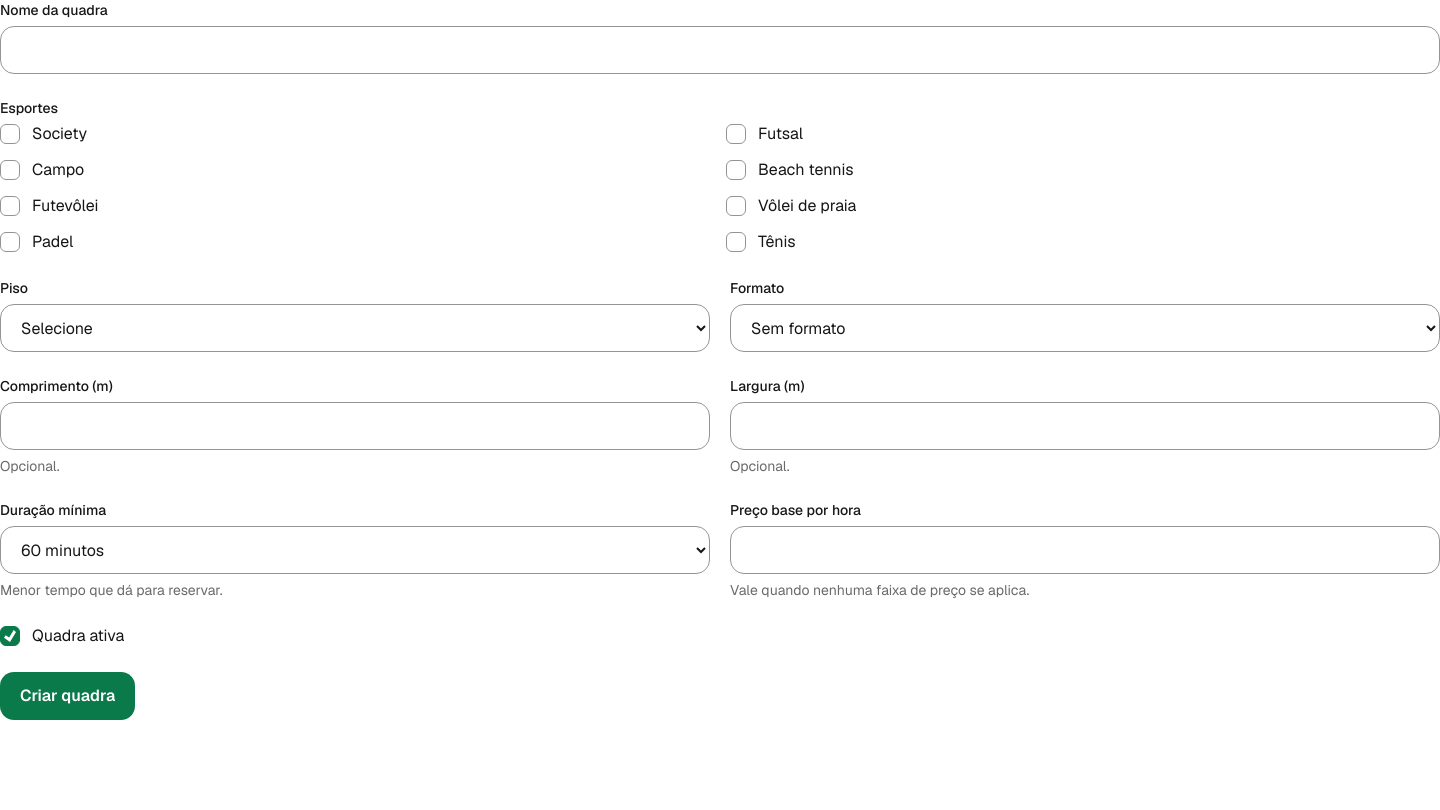
FieldForm (create) › flags a measure finer than one decimal place or below 0,1 m
Type "0,04" into the field labelled "Comprimento (m)" at (355, 426), box left=0, top=402, right=710, bottom=450
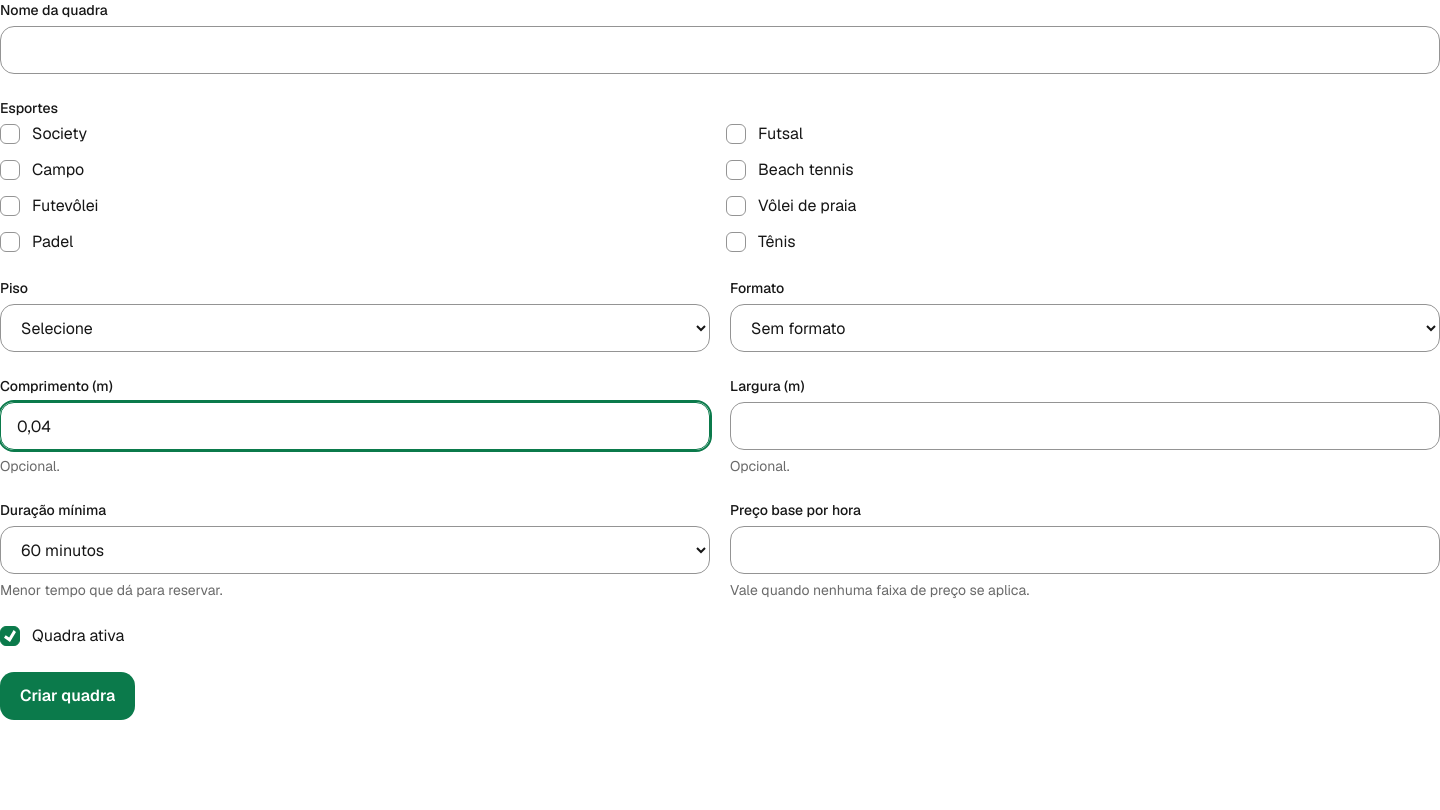
Type "20,55" into the field labelled "Largura (m)" at (1085, 426), box left=730, top=402, right=1439, bottom=450
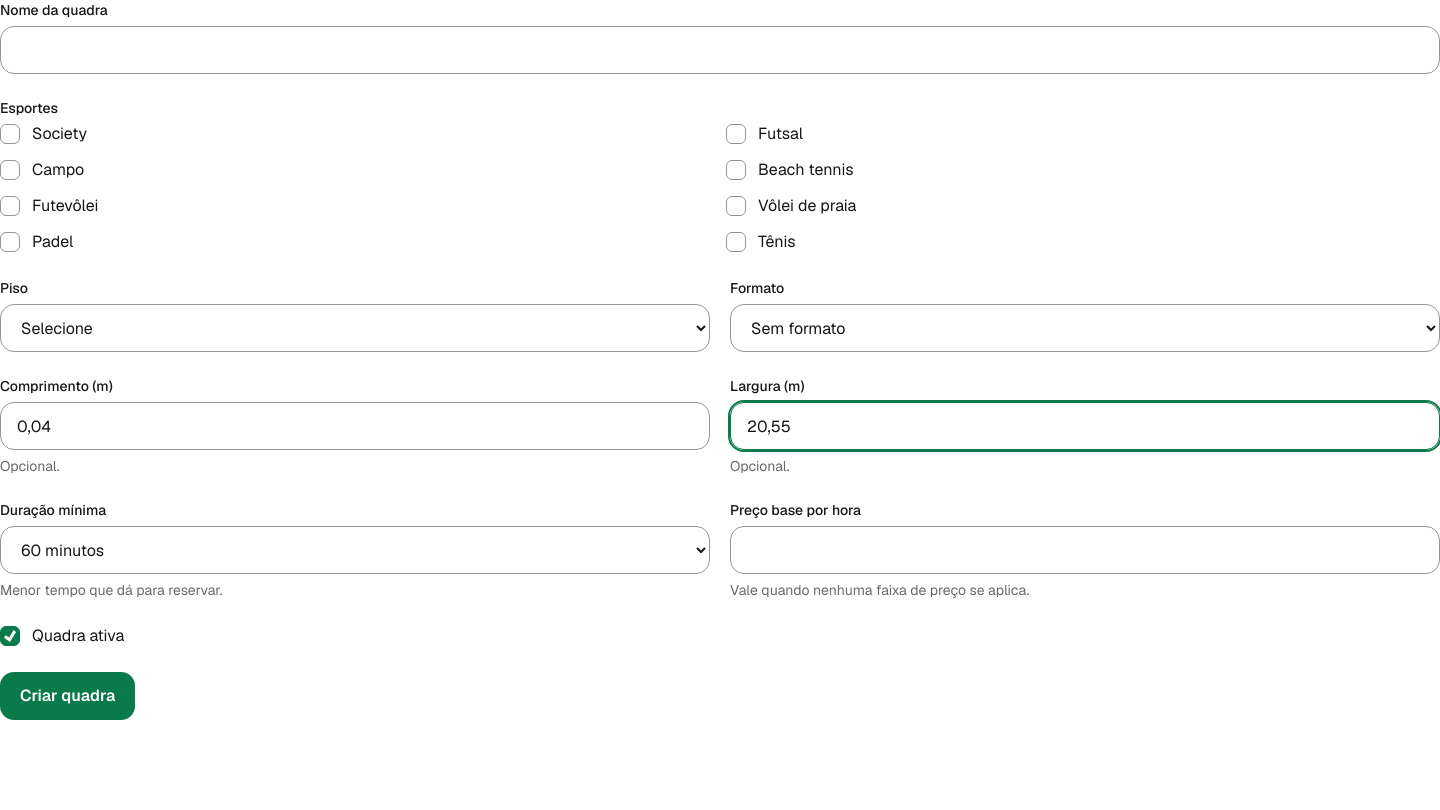
Click the button "Criar quadra" at (68, 696), box left=0, top=672, right=135, bottom=720
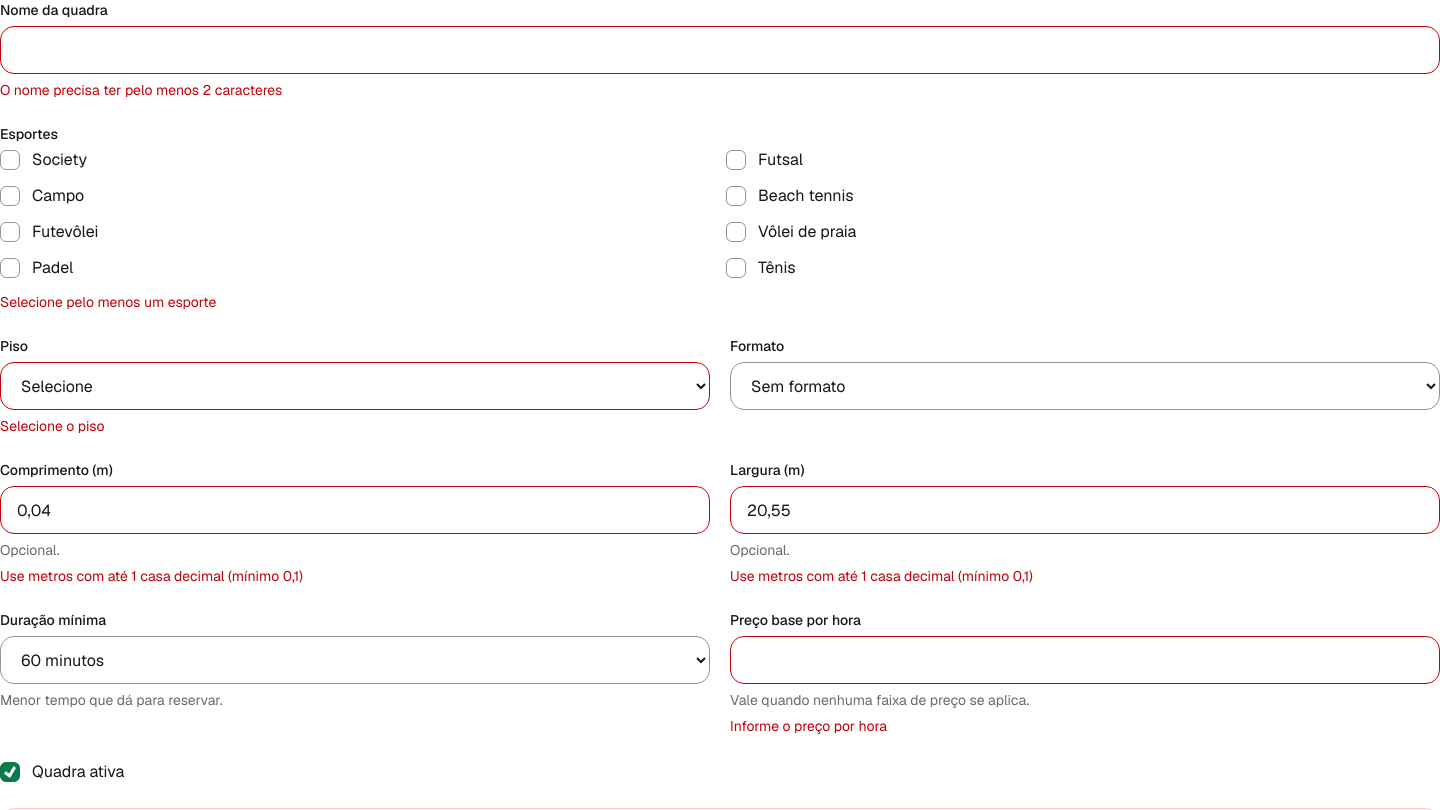
Now the text "Use metros com até 1 casa decimal (mínimo 0,1)" is shown 2 times, box left=0, top=567, right=303, bottom=585; left=730, top=567, right=1033, bottom=585
